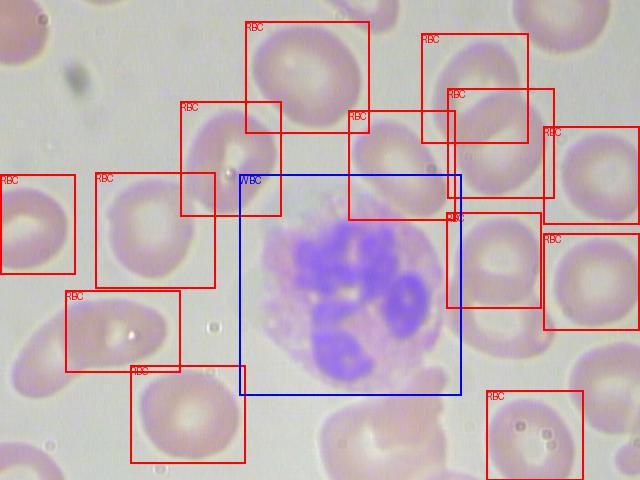RBC: (95, 172, 215, 288), (245, 21, 369, 133), (348, 110, 455, 220), (447, 88, 554, 198), (421, 33, 528, 143), (180, 101, 281, 216), (130, 365, 245, 463), (65, 290, 180, 372), (543, 126, 639, 224), (543, 233, 639, 330), (446, 212, 541, 308), (486, 390, 583, 480), (0, 174, 75, 274)
WBC: (239, 174, 461, 395)
